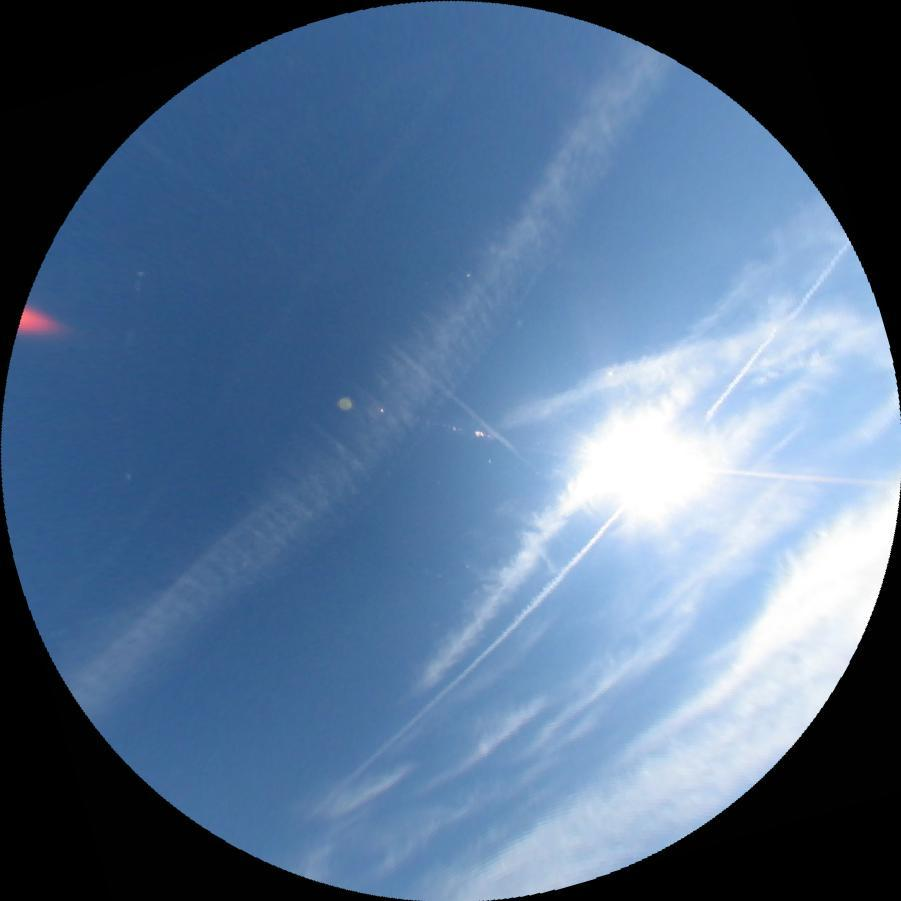contrail old: (308, 239, 865, 830), (34, 103, 431, 633), (387, 341, 526, 462)
contrail veryold: (53, 20, 714, 761), (394, 328, 725, 708), (488, 303, 891, 430)
parasite: (712, 465, 900, 484), (121, 270, 144, 348)
sun: (596, 426, 712, 495)
